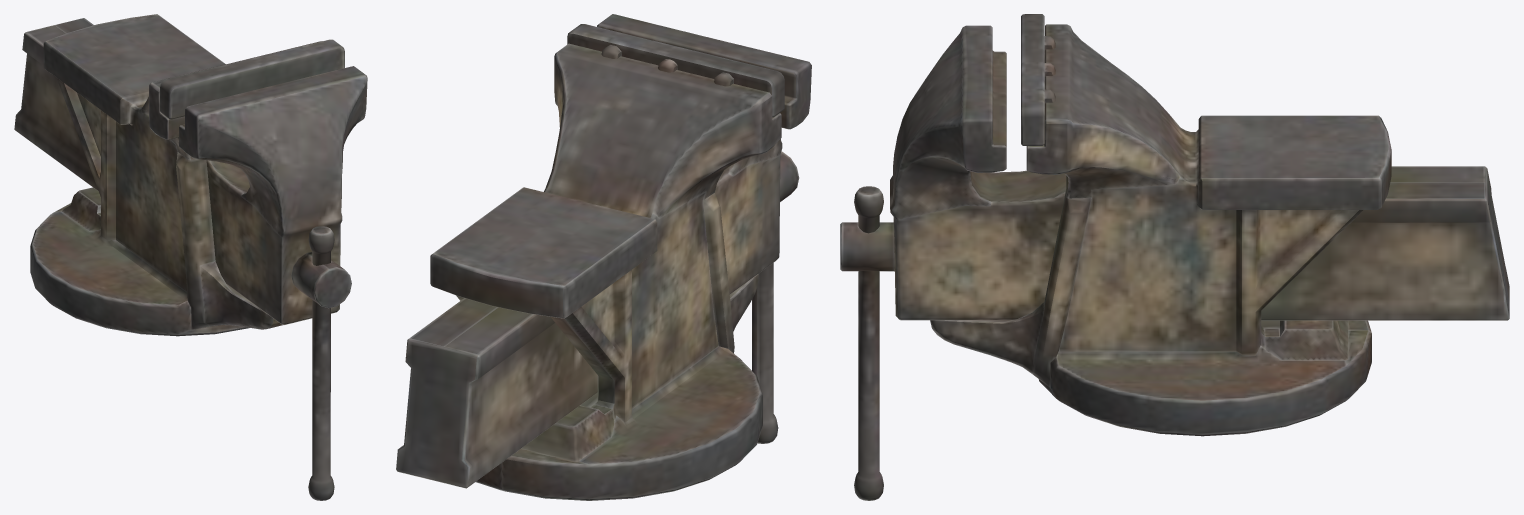
File: morsa.glb
The picture shows the model from 3 angles, left to right: view 1: azimuth 30°, elevation 25°; view 2: azimuth 150°, elevation 25°; view 3: azimuth 270°, elevation 25°; orthographic projection. The views are drawn at different scales.
Visible parts, largest first — view 1: frame_bench_vice_0, clamp_bench_vice_0, bar_bench_vice_0, dial_bench_vice_0; view 2: frame_bench_vice_0, clamp_bench_vice_0, bar_bench_vice_0, dial_bench_vice_0; view 3: frame_bench_vice_0, clamp_bench_vice_0, bar_bench_vice_0, dial_bench_vice_0.
Part boxes in pixels (x1,y1,x2,y2): frame_bench_vice_0: (30,14,344,336); clamp_bench_vice_0: (14,18,367,324); bar_bench_vice_0: (308,226,334,500); dial_bench_vice_0: (291,252,351,308); frame_bench_vice_0: (430,24,784,500); clamp_bench_vice_0: (396,14,811,488); bar_bench_vice_0: (752,263,778,443); dial_bench_vice_0: (780,151,799,201); frame_bench_vice_0: (930,14,1391,436); clamp_bench_vice_0: (890,25,1509,320); bar_bench_vice_0: (854,186,883,500); dial_bench_vice_0: (840,222,894,271).
Size of the model in its own units: 0.2005 by 0.2851 by 0.3957.
Materials: 1 (1 with a texture image).
